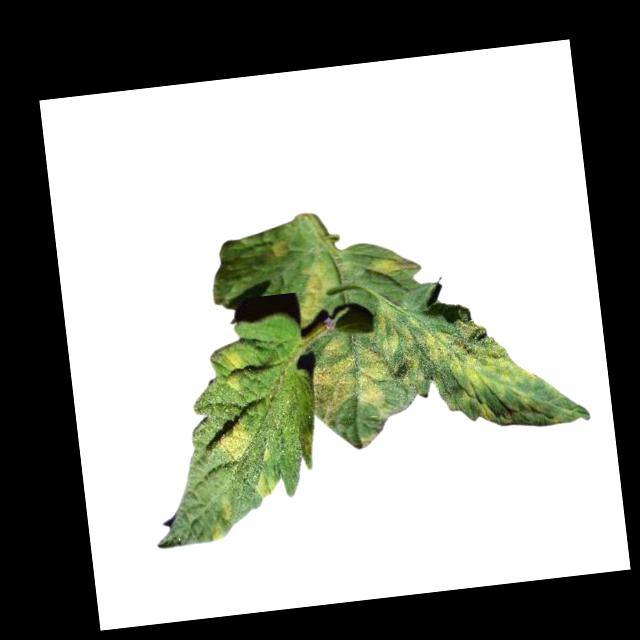Leaf_Mold: (388, 286, 591, 444), (306, 329, 399, 428), (289, 250, 341, 325), (211, 419, 260, 469), (369, 248, 419, 279), (205, 495, 235, 544), (218, 346, 247, 396), (255, 468, 282, 504), (272, 238, 291, 260)
